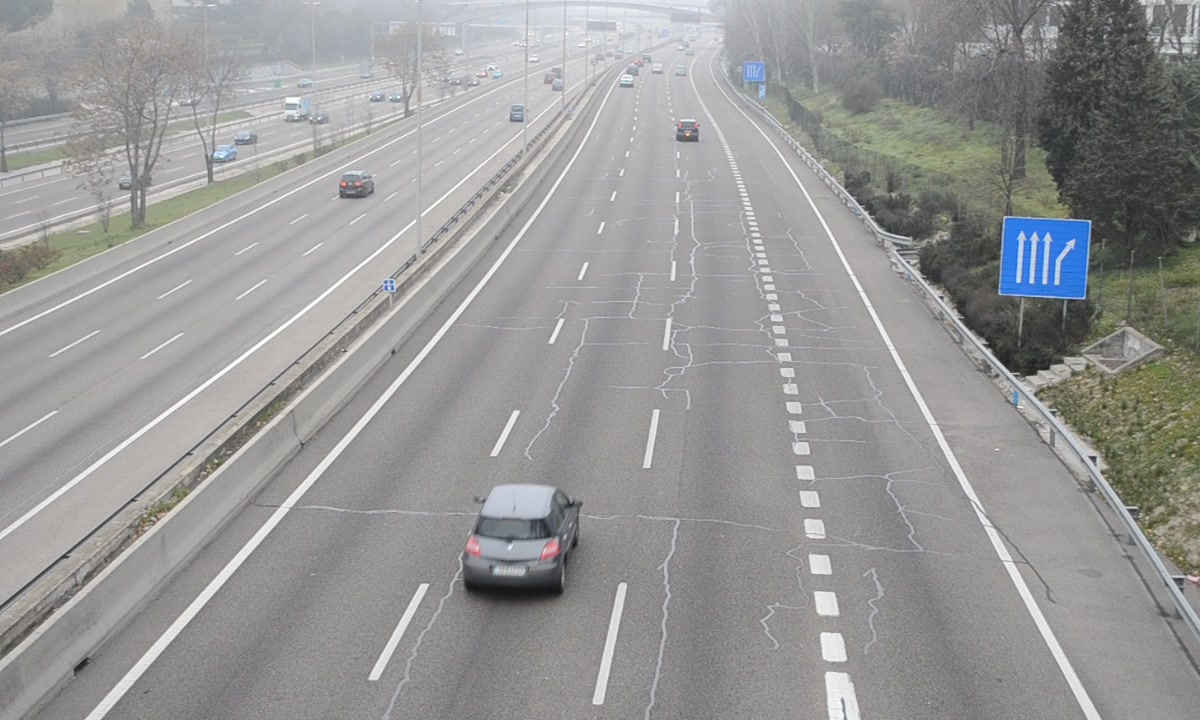car: (465, 486, 578, 590), (675, 120, 700, 142)
